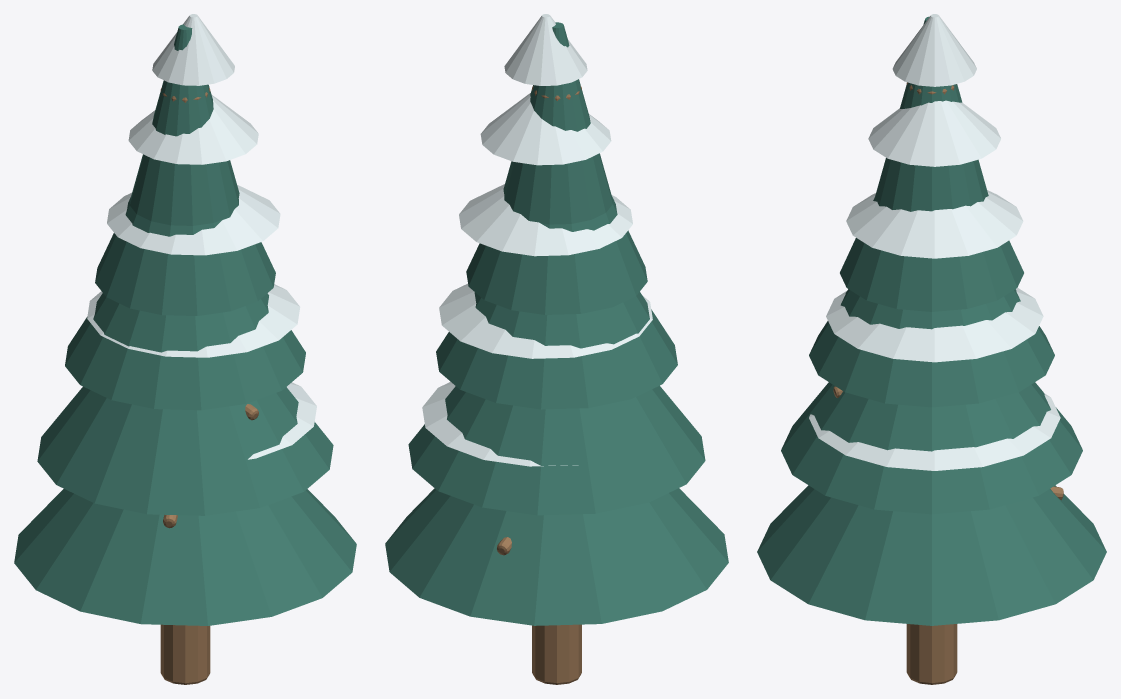
File: prop-pine.glb
3 renders of one model, left to right at view 1: azimuth 30°, elevation 25°; view 2: azimuth 150°, elevation 25°; view 3: azimuth 270°, elevation 25°, orthographic.
Visible parts, largest first — view 1: Pine needles, Snow, Aged oak; view 2: Pine needles, Snow, Aged oak; view 3: Pine needles, Snow, Aged oak.
Part boxes in pixels (x1=…): Pine needles: x1=14, y1=24, x2=356, y2=625; Snow: x1=87, y1=14, x2=316, y2=459; Aged oak: x1=160, y1=87, x2=258, y2=684; Pine needles: x1=385, y1=22, x2=728, y2=625; Snow: x1=422, y1=14, x2=652, y2=466; Aged oak: x1=497, y1=86, x2=581, y2=684; Pine needles: x1=757, y1=16, x2=1106, y2=625; Snow: x1=809, y1=14, x2=1060, y2=470; Aged oak: x1=833, y1=82, x2=1063, y2=684.
Size of the model in its own units: 2.5 by 5.24 by 2.5.
